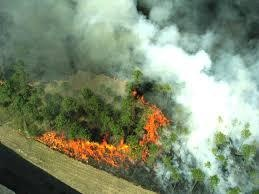fire: (36, 126, 132, 164), (133, 86, 169, 150)
